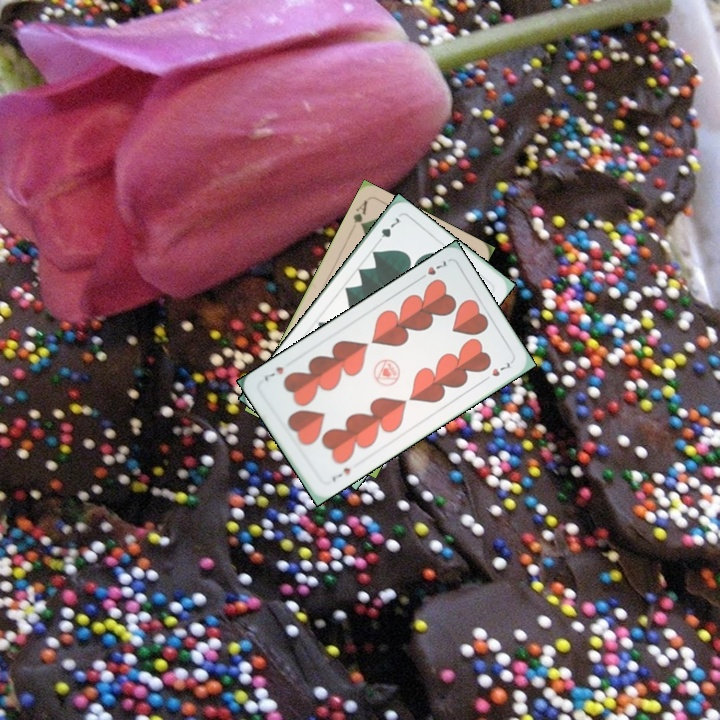G7: (372, 213, 402, 247)
GA: (349, 197, 370, 231)
H7: (414, 257, 449, 283), (328, 463, 353, 484)
